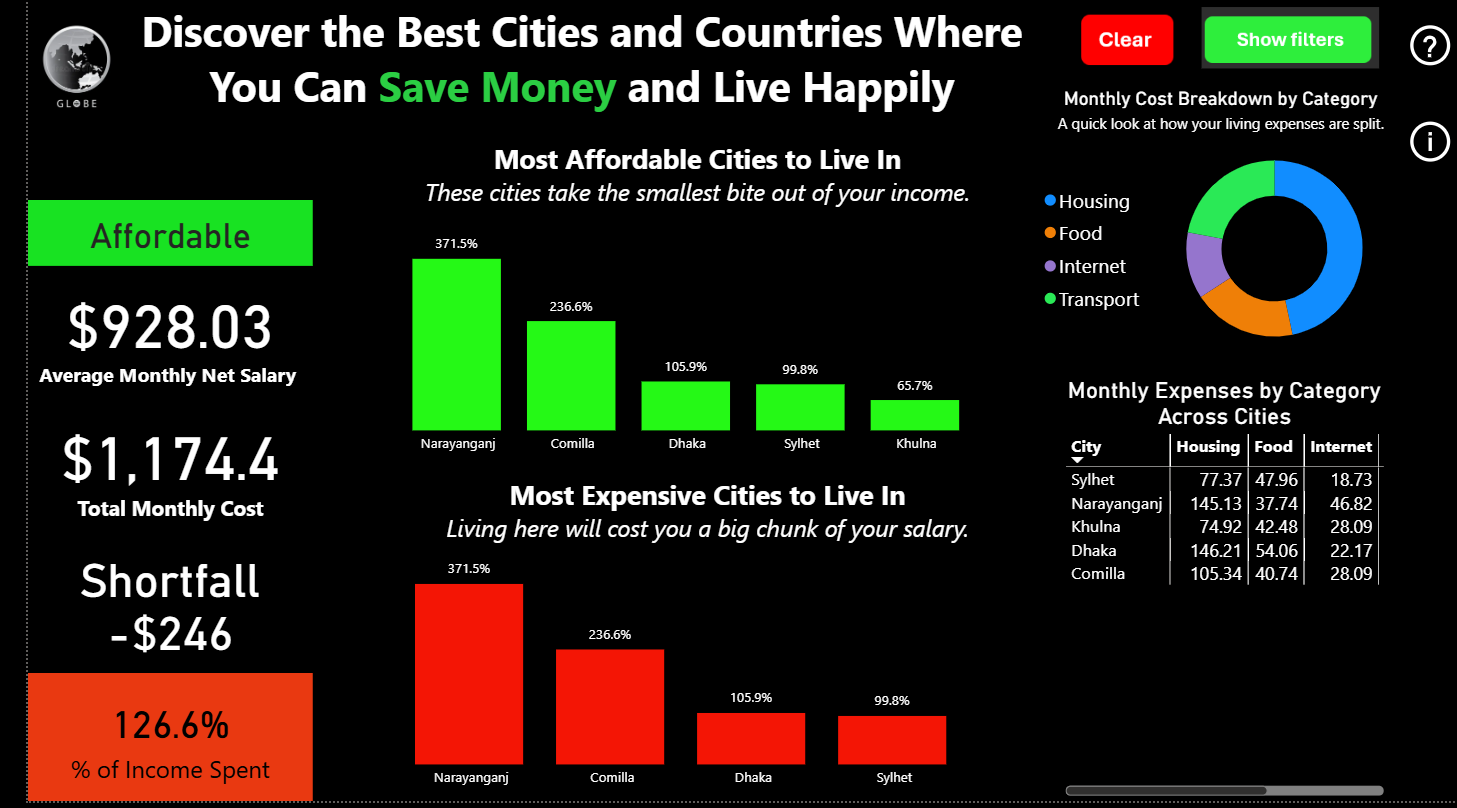

This screenshot's page, from the dashboard's own definition file:
{"tool":"powerbi","page":{"name":"Dashboard","canvas":[1280,720],"ordinal":0},"visuals":[{"type":"group","id":"g1","title":"visuals ","box":[903.2,-0.1,376,720.4],"z":0},{"type":"textbox","box":[86.7,0,818.4,109.9],"z":0,"group":"g5"},{"type":"actionButton","box":[1232.2,1.7,47,82.7],"z":0,"group":"g4"},{"type":"donutChart","title":"Monthly Cost Breakdown by Category","fields":{"Y":["cost-of-living.Housing % of Total","cost-of-living.Food % of Total","cost-of-living.Internet % of Total","cost-of-living.Transport % of Total"]},"box":[903.2,80.9,329.3,248.3],"z":0,"group":"g1"},{"type":"clusteredColumnChart","title":"Most Affordable Cities to Live In These cities take the smallest bite out of your income.","fields":{"Y":["cost-of-living.% of Income Spent"],"Category":["cost-of-living.Name of the city"]},"box":[297.6,198,584.5,220.2],"z":0,"group":"g3"},{"type":"card","fields":{"Values":["cost-of-living.Total Monthly Cost Measure"]},"box":[0,359,255.1,119.1],"z":0,"group":"g2"},{"type":"image","box":[0,0.1,86.7,125.1],"z":1000,"group":"g5"},{"type":"actionButton","box":[1232.2,93.6,47,71.7],"z":1000,"group":"g4"},{"type":"group","id":"g2","title":"KPI cards","box":[0,181.4,255.1,538.6],"z":1000},{"type":"pivotTable","title":"Monthly Expenses by Category Across Cities","fields":{"Rows":["cost-of-living.Name of the city"],"Values":["Sum(cost-of-living.Housing Monthly)","Sum(cost-of-living.Food Monthly)","Sum(cost-of-living.Internet Monthly)","Sum(cost-of-living.Transportation Monthly)"]},"box":[924,339.9,294.8,380.4],"z":1000,"group":"g1"},{"type":"clusteredColumnChart","fields":{"Y":["cost-of-living.% of Income Spent"],"Category":["cost-of-living.Name of the city"]},"box":[290.7,489.5,591,228.3],"z":1000,"group":"g3"},{"type":"card","fields":{"Values":["cost-of-living.% of Income Spent"]},"box":[0,604.7,255.1,115.3],"z":1000,"group":"g2"},{"type":"image","box":[1045.3,-0.1,169.5,73.2],"z":2000,"group":"g1"},{"type":"textbox","box":[315.5,123.1,566.7,89.1],"z":2000,"group":"g3"},{"type":"card","fields":{"Values":["cost-of-living.SurplusShortfallStatus"]},"box":[0,479.1,254.2,125.2],"z":2000,"group":"g2"},{"type":"image","box":[925.5,6.6,116.6,61.5],"z":3000,"group":"g1"},{"type":"group","id":"g3","title":"bar chart","box":[290.7,123.1,591.5,594.7],"z":3000},{"type":"card","fields":{"Values":["Min(cost-of-living.City Type)"]},"box":[0,181.4,255.1,58.6],"z":3000,"group":"g2"},{"type":"textbox","box":[334.9,424.2,547.3,95.5],"z":3000,"group":"g3"},{"type":"group","id":"g4","title":"info and help","box":[1232.2,1.7,47,163.5],"z":3500,"group":"g1"},{"type":"card","fields":{"Values":["Sum(cost-of-living.Average Monthly Net Salary (After Tax) (USD))"]},"box":[0,240,255.1,119.1],"z":4000,"group":"g2"},{"type":"group","id":"g5","title":"title","box":[0,0,905.1,125.2],"z":5000}]}

Visuals, with their boxes in screenshot pixels (x1, y1, x2, y2), scaled from the page's 1280x720 canvas onto the 1457x808 screenshot:
"visuals " group: BBox(1028, 0, 1456, 807)
textbox: BBox(99, 0, 1030, 123)
actionButton: BBox(1403, 2, 1456, 95)
"Monthly Cost Breakdown by Category" donutChart: BBox(1028, 91, 1403, 369)
"Most Affordable Cities to Live In These cities take the smallest bite out of your income." clusteredColumnChart: BBox(339, 222, 1004, 469)
card - cost-of-living.Total Monthly Cost Measure: BBox(0, 403, 290, 537)
image: BBox(0, 0, 99, 141)
actionButton: BBox(1403, 105, 1456, 186)
"KPI cards" group: BBox(0, 204, 290, 807)
"Monthly Expenses by Category Across Cities" pivotTable: BBox(1052, 381, 1387, 807)
clusteredColumnChart - cost-of-living.% of Income Spent x cost-of-living.Name of the city: BBox(331, 549, 1004, 806)
card - cost-of-living.% of Income Spent: BBox(0, 679, 290, 807)
image: BBox(1190, 0, 1383, 82)
textbox: BBox(359, 138, 1004, 238)
card - cost-of-living.SurplusShortfallStatus: BBox(0, 538, 289, 678)
image: BBox(1053, 7, 1186, 76)
"bar chart" group: BBox(331, 138, 1004, 806)
card - Min(cost-of-living.City Type): BBox(0, 204, 290, 269)
textbox: BBox(381, 476, 1004, 583)
"info and help" group: BBox(1403, 2, 1456, 185)
card - Sum(cost-of-living.Average Monthly Net Salary (After Tax) (USD)): BBox(0, 269, 290, 403)
"title" group: BBox(0, 0, 1030, 141)
